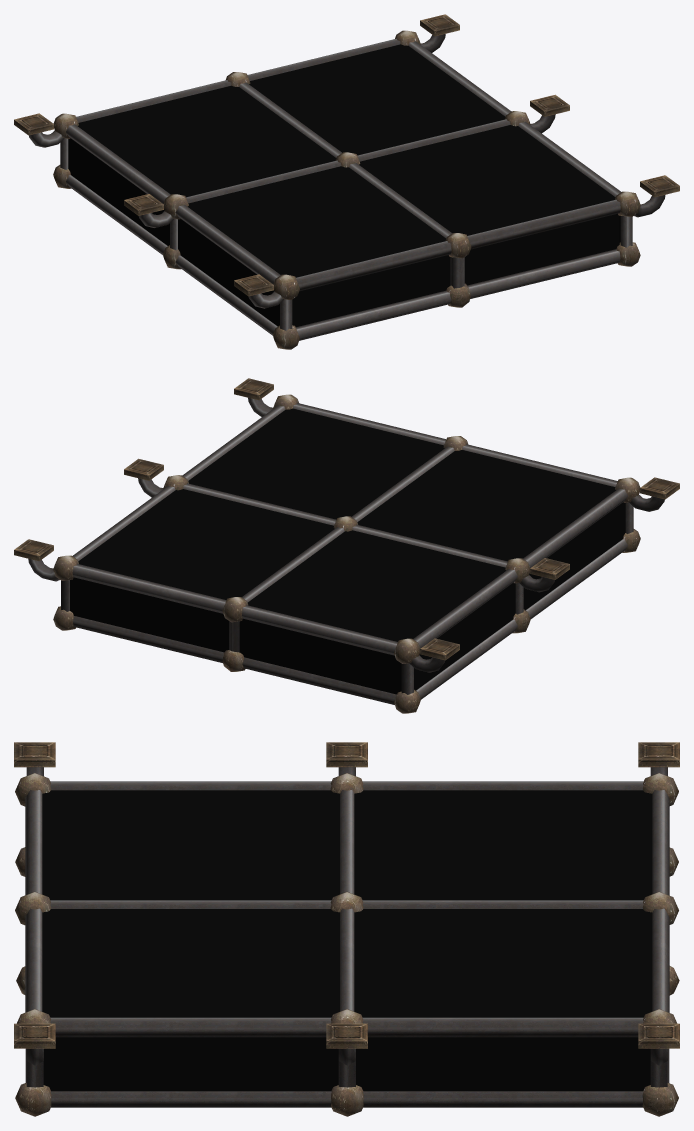
Rendered from catwalk_factory_2m.DAE.
The picture shows the model from 3 angles, top to bottom: view 1: azimuth 30°, elevation 25°; view 2: azimuth 150°, elevation 25°; view 3: azimuth 270°, elevation 25°; orthographic projection. The views are drawn at different scales.
Parts seen in each view (by area): view 1: Plane006, Object127; view 2: Plane006, Object127; view 3: Plane006, Object127.
Part boxes in pixels (x1,y1,x2,y2): Plane006: (68,44,620,326); Object127: (14,14,679,349); Plane006: (70,408,625,694); Object127: (14,378,679,713); Plane006: (42,790,652,1091); Object127: (14,742,679,1116).
Bounding box in the file's own units: 2.12 × 0.3534 × 2.
